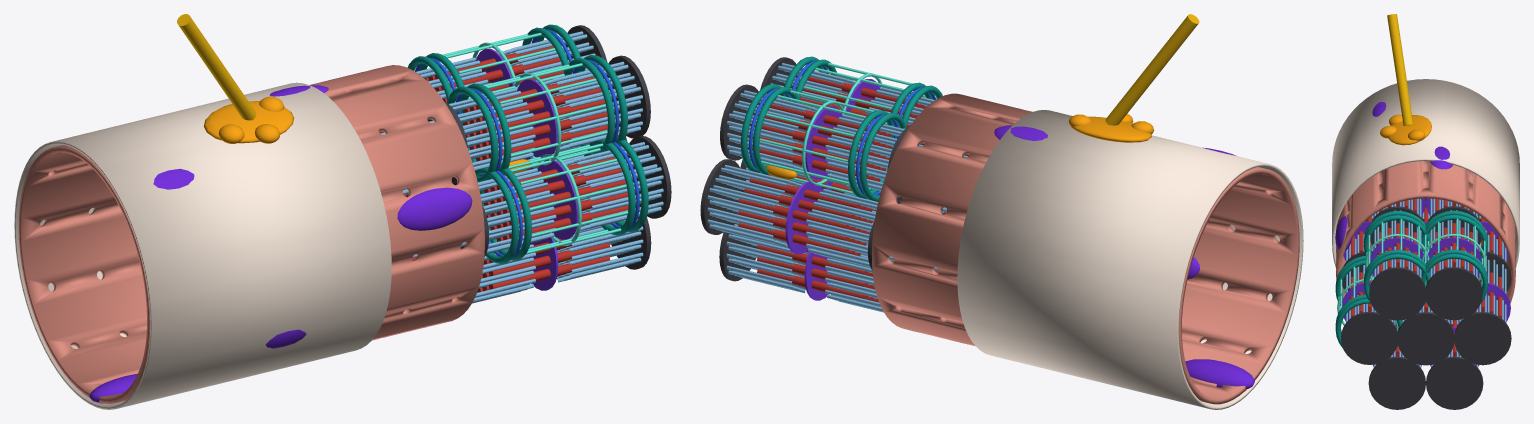
Rendered from fiber.glb.
3 renders of one model, left to right at view 1: azimuth 30°, elevation 25°; view 2: azimuth 150°, elevation 25°; view 3: azimuth 270°, elevation 25°, orthographic. The views are drawn at different scales.
Parts seen in each view (by area): view 1: Endomysium, Sarcolemma, Myofibrils, Terminal cisternae, Sarcoplasmic reticulum, Nuclei, Axon terminal, T-tubules, Motor neuron axon; view 2: Endomysium, Sarcolemma, Myofibrils, Terminal cisternae, Sarcoplasmic reticulum, Nuclei, Motor neuron axon, Axon terminal, T-tubules; view 3: Myofibrils, Endomysium, Sarcolemma, Terminal cisternae, Sarcoplasmic reticulum, Motor neuron axon, Axon terminal, Nuclei.
Part boxes in pixels (x1,y1,x2,y2): Endomysium: [14, 82, 391, 409]; Sarcolemma: [18, 65, 484, 403]; Myofibrils: [379, 25, 671, 303]; Terminal cisternae: [407, 24, 648, 263]; Sarcoplasmic reticulum: [442, 32, 628, 254]; Nuclei: [89, 85, 472, 403]; Axon terminal: [204, 96, 293, 143]; T-tubules: [415, 29, 639, 258]; Motor neuron axon: [177, 14, 256, 120]; Endomysium: [957, 110, 1303, 409]; Sarcolemma: [872, 93, 1299, 404]; Myofibrils: [700, 57, 968, 312]; Terminal cisternae: [740, 56, 942, 201]; Sarcoplasmic reticulum: [759, 63, 924, 194]; Nuclei: [994, 125, 1254, 389]; Motor neuron axon: [1105, 14, 1199, 125]; Axon terminal: [1068, 114, 1154, 142]; T-tubules: [749, 61, 936, 196]; Myofibrils: [1341, 198, 1511, 409]; Endomysium: [1332, 79, 1519, 267]; Sarcolemma: [1336, 161, 1515, 303]; Terminal cisternae: [1335, 210, 1487, 348]; Sarcoplasmic reticulum: [1337, 218, 1486, 331]; Motor neuron axon: [1387, 14, 1413, 126]; Axon terminal: [1380, 114, 1431, 145]; Nuclei: [1335, 102, 1452, 250].
Bounding box in the file's own units: 16.33 × 11.29 × 7.34.
